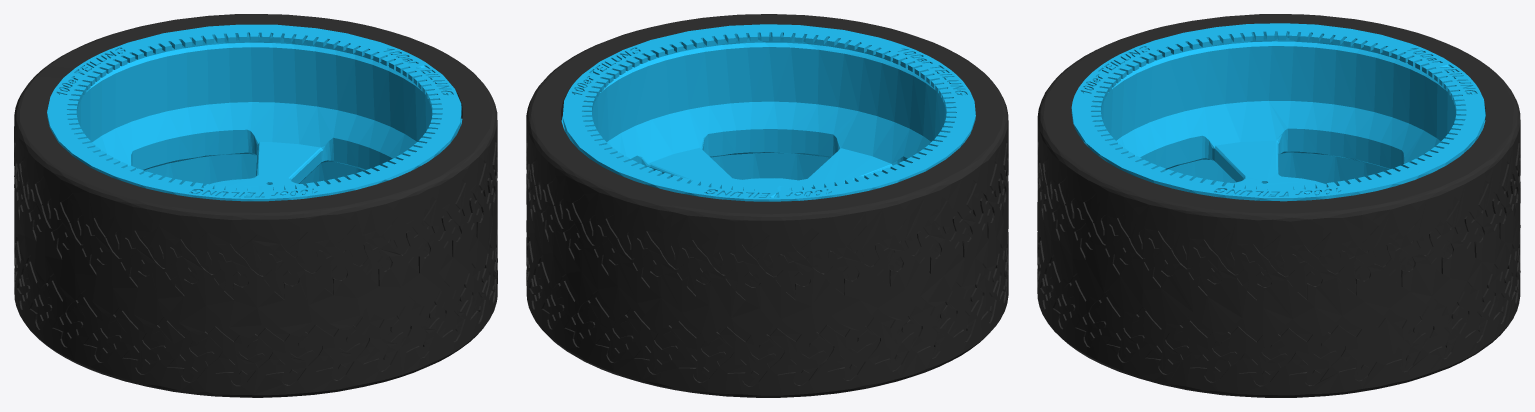
File: model_wheel_right.dae
3 views of the same model, side by side, from view 1: azimuth 30°, elevation 25°; view 2: azimuth 150°, elevation 25°; view 3: azimuth 270°, elevation 25° (orthographic).
Parts seen in each view (by area): view 1: TAS_CAR_light_full_-_TAS_CAR_RADAHIntenRechts-1_Hinterrad-1_ (×2); view 2: TAS_CAR_light_full_-_TAS_CAR_RADAHIntenRechts-1_Hinterrad-1_ (×2); view 3: TAS_CAR_light_full_-_TAS_CAR_RADAHIntenRechts-1_Hinterrad-1_ (×2).
Boxes of the visible parts, box(x1,y1,x2,y2) form: TAS_CAR_light_full_-_TAS_CAR_RADAHIntenRechts-1_Hinterrad-1_ (×2): box(14, 14, 497, 397); TAS_CAR_light_full_-_TAS_CAR_RADAHIntenRechts-1_Hinterrad-1_ (×2): box(526, 14, 1008, 397); TAS_CAR_light_full_-_TAS_CAR_RADAHIntenRechts-1_Hinterrad-1_ (×2): box(1037, 14, 1520, 397).
Bounding box in the file's own units: 0.14 × 0.1401 × 0.06.
